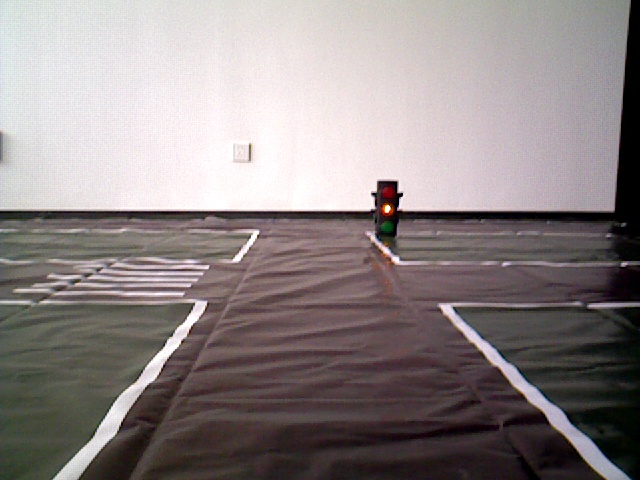yellow: (374, 178, 401, 242)
